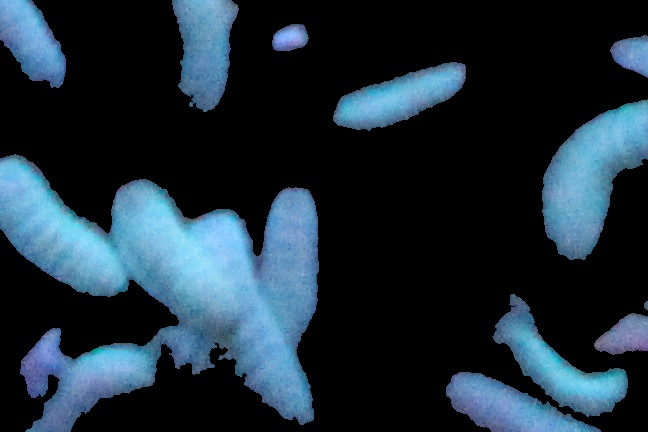larvae: (188, 213, 316, 423), (531, 98, 648, 262), (1, 156, 125, 297), (115, 181, 232, 324), (494, 319, 630, 412), (442, 370, 598, 432), (264, 182, 320, 339), (331, 63, 461, 128), (164, 1, 229, 116), (1, 1, 66, 94)
